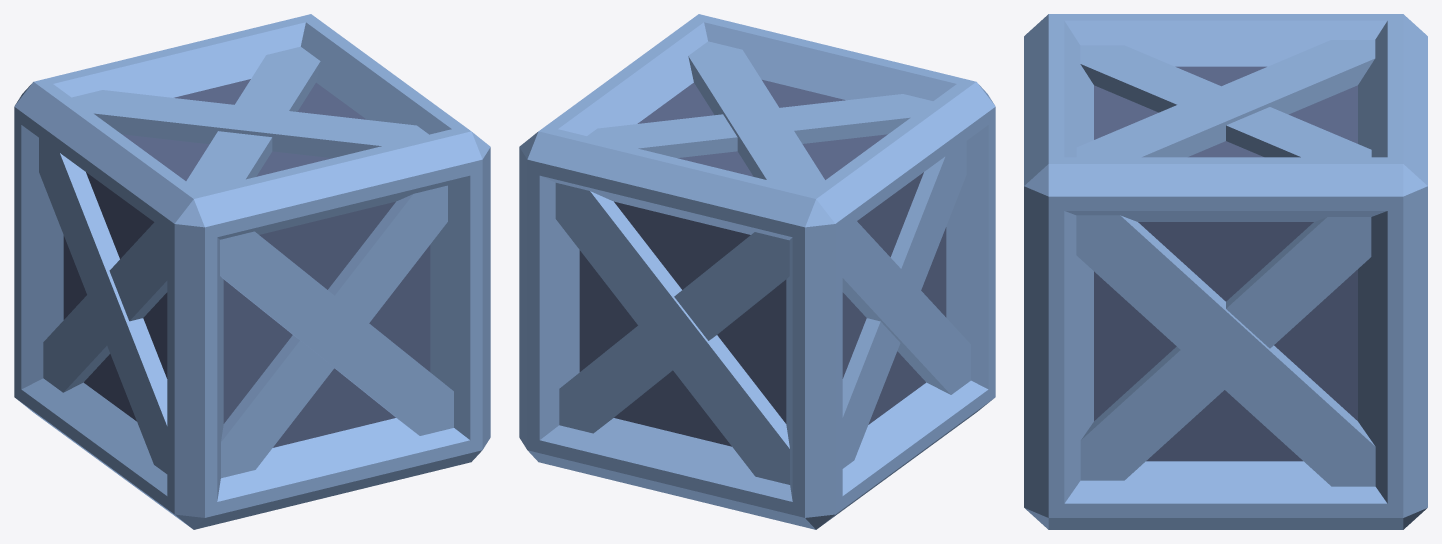
The model's file is Crate.fbx.
The picture shows the model from 3 angles, left to right: view 1: azimuth 30°, elevation 25°; view 2: azimuth 150°, elevation 25°; view 3: azimuth 270°, elevation 25°; orthographic projection. The views are drawn at different scales.
Parts seen in each view (by area): view 1: Cube, Cube.001; view 2: Cube, Cube.001; view 3: Cube, Cube.001.
Boxes of the visible parts, bbox=[...] form: Cube: bbox=[14, 14, 490, 529]; Cube.001: bbox=[63, 79, 430, 447]; Cube: bbox=[519, 14, 995, 529]; Cube.001: bbox=[579, 79, 946, 446]; Cube: bbox=[1024, 14, 1427, 529]; Cube.001: bbox=[1094, 66, 1357, 461].
Size of the model in its own units: 200 by 200 by 200.
